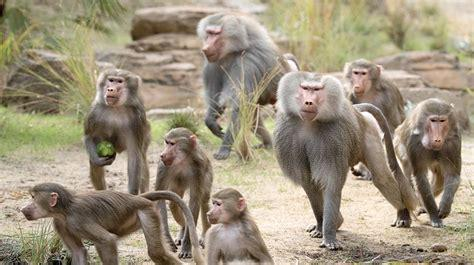monkey: (277, 71, 415, 250), (22, 183, 202, 265), (198, 12, 290, 158), (395, 99, 461, 225), (85, 69, 150, 195), (156, 128, 211, 262), (205, 189, 272, 265), (342, 59, 406, 128)
